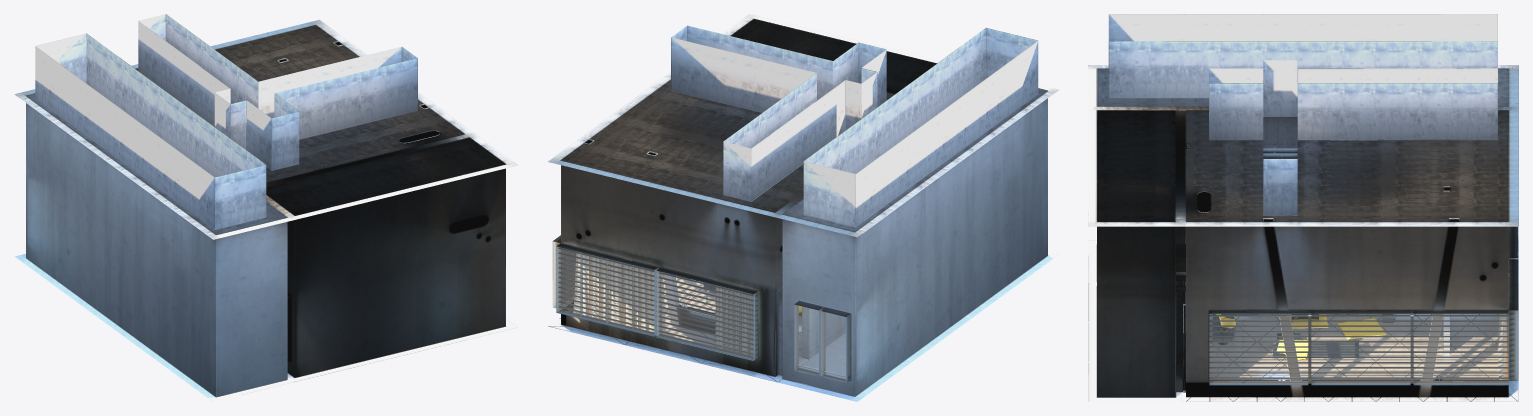
File: apartment.glb
The picture shows the model from 3 angles, left to right: view 1: azimuth 30°, elevation 25°; view 2: azimuth 150°, elevation 25°; view 3: azimuth 270°, elevation 25°; orthographic projection. The views are drawn at different scales.
Visible parts, largest first — view 1: Cube.007; view 2: Cube.007, Plane.006, Cube.009, Plane.020, Cube.000, Plane.016; view 3: Cube.007, Plane.005, Cube.000, Cube.009, BezierCurve, Plane.016.
Boxes of the visible parts, x1,y1,x2,y2 form: Cube.007: (14,14,518,401); Cube.007: (547,14,1058,401); Plane.006: (558,247,752,358); Cube.009: (573,251,801,356); Plane.020: (796,305,845,381); Cube.000: (548,274,808,382); Plane.016: (562,301,715,333); Cube.007: (1088,14,1518,401); Plane.005: (1210,313,1507,383); Cube.000: (1186,314,1518,401); Cube.009: (1210,314,1507,379); BezierCurve: (1176,143,1297,291); Plane.016: (1209,314,1508,380).
Size of the model in its own units: 13.72 by 9.24 by 15.48.
33 materials, 30 textured.
